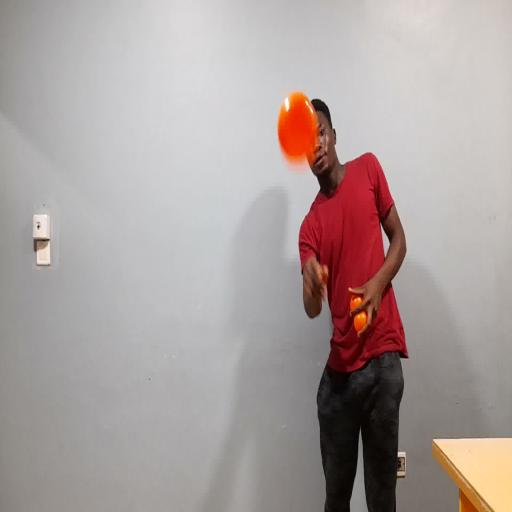plastic-ball: (275, 88, 321, 170)
